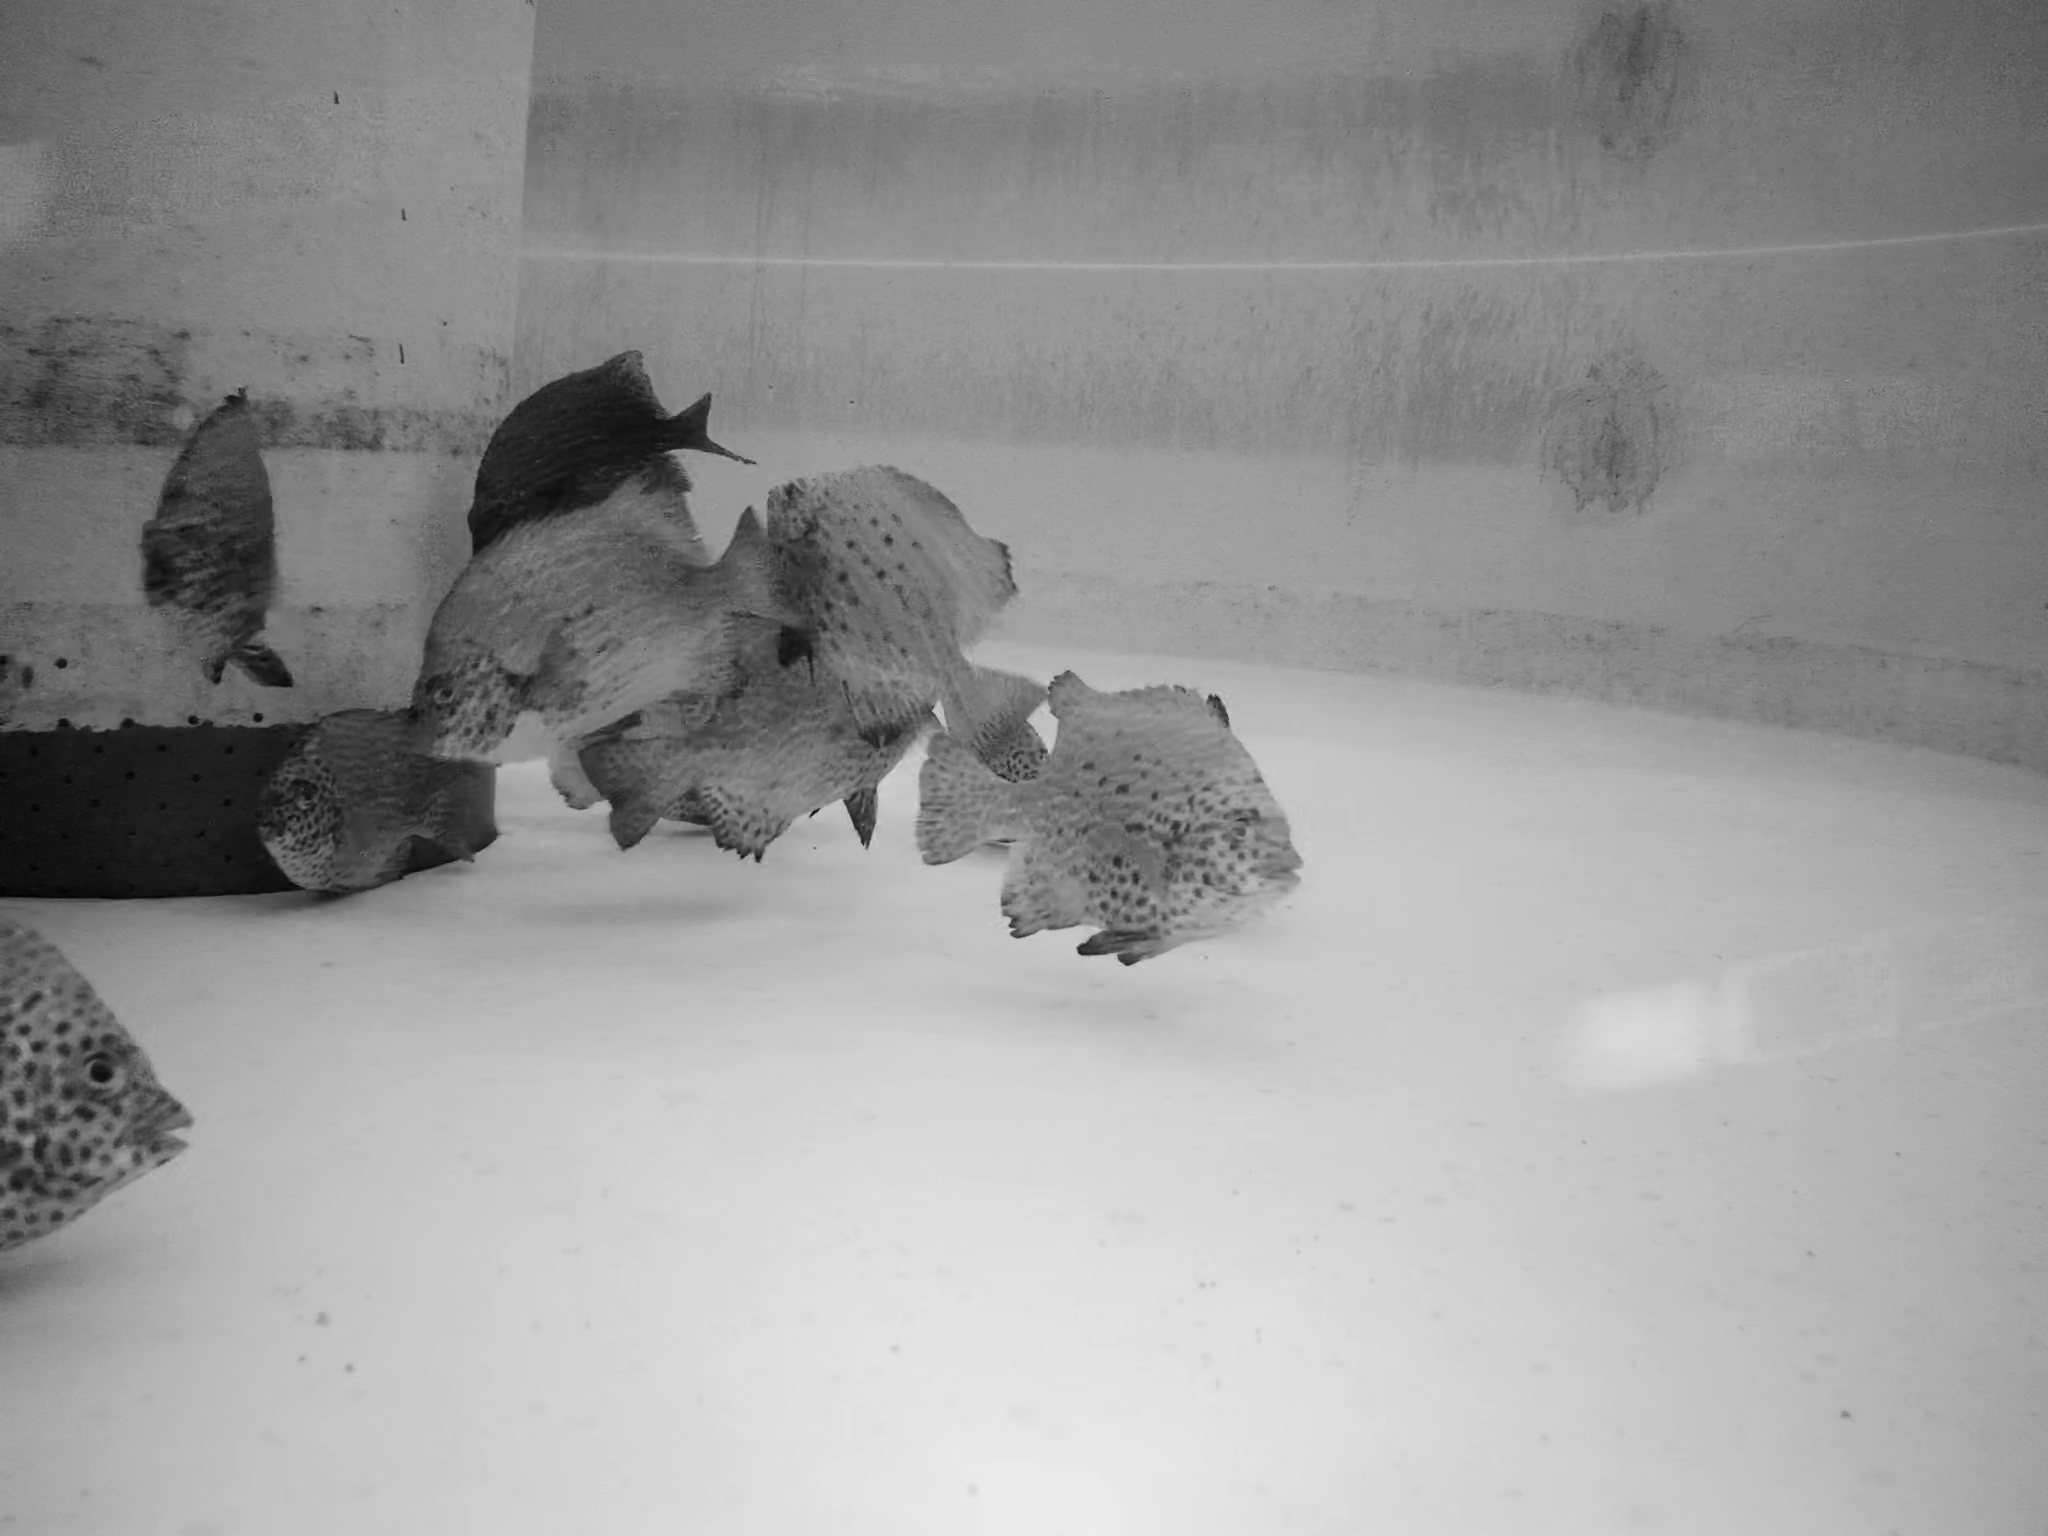fish: (402, 482, 813, 771), (910, 671, 1308, 960), (755, 463, 1042, 763), (572, 637, 943, 841), (2, 923, 189, 1270), (450, 350, 756, 529), (139, 394, 302, 695), (266, 707, 500, 883)
